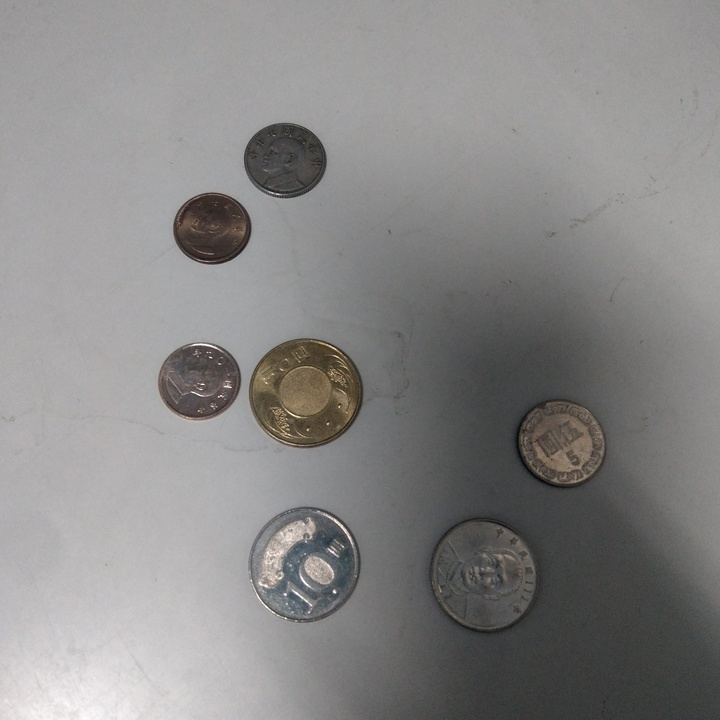1 dollar: (158, 344, 242, 422), (174, 191, 251, 266)
10 dollar: (243, 509, 363, 622), (429, 517, 539, 634)
5 dollar: (515, 399, 609, 489), (240, 123, 327, 200)
50 dollar: (251, 333, 365, 452)
